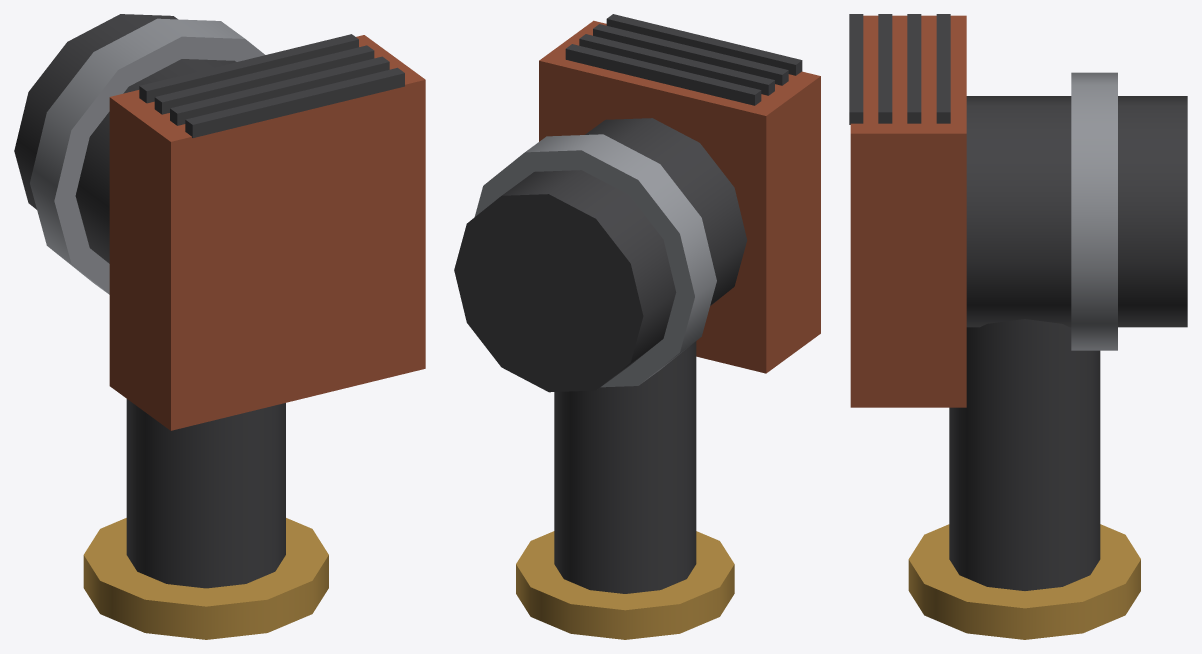
File: pellet_auger.obj
The picture shows the model from 3 angles, left to right: view 1: azimuth 30°, elevation 25°; view 2: azimuth 150°, elevation 25°; view 3: azimuth 270°, elevation 25°; orthographic projection. The views are drawn at different scales.
Visible parts, largest first — view 1: pellet_auger; view 2: pellet_auger; view 3: pellet_auger.
Part boxes in pixels (x1,y1,x2,y2): pellet_auger: [14, 14, 425, 639]; pellet_auger: [454, 14, 820, 639]; pellet_auger: [849, 14, 1187, 639].
Size of the model in its own units: 0.24 by 0.501 by 0.291.
